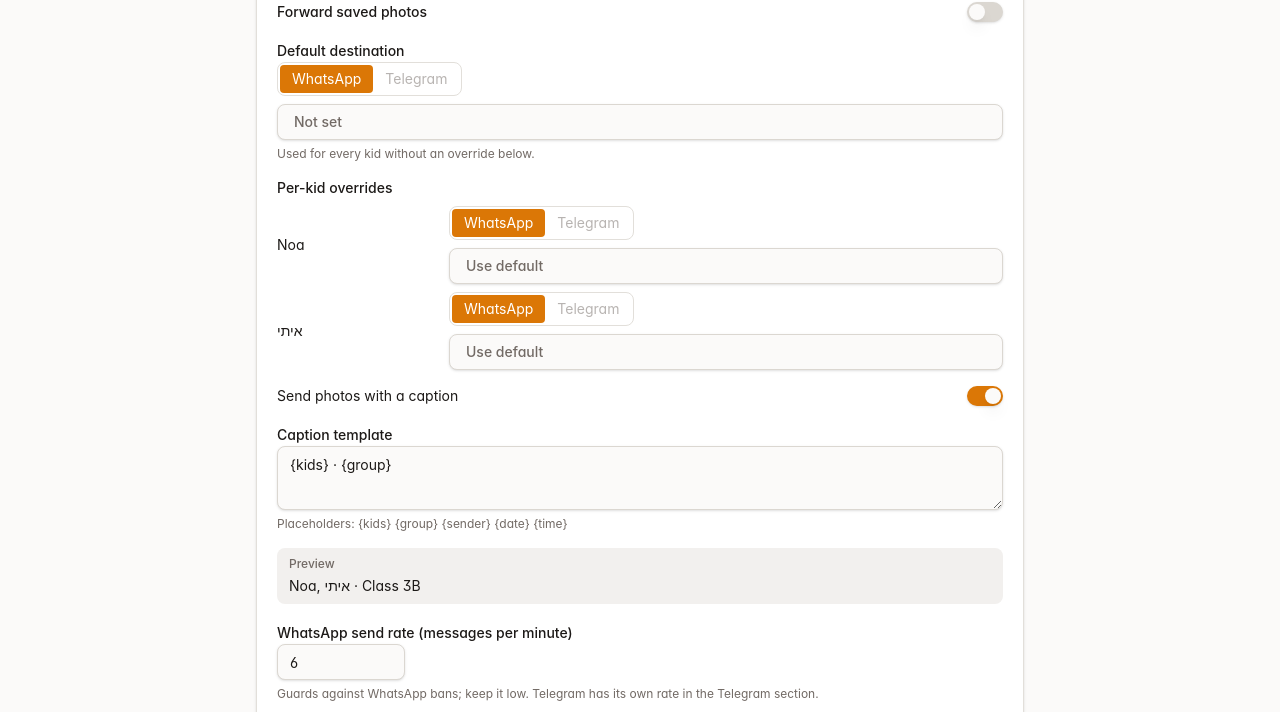
SettingsPage › maps a 422 from the API onto the field
This screenshot has width=1280, height=712.
(page scrolled)
Click the button with aria-label "Destination for איתי: Use default" at (505,352), box top-left (449, 334), bottom-right (1003, 370)
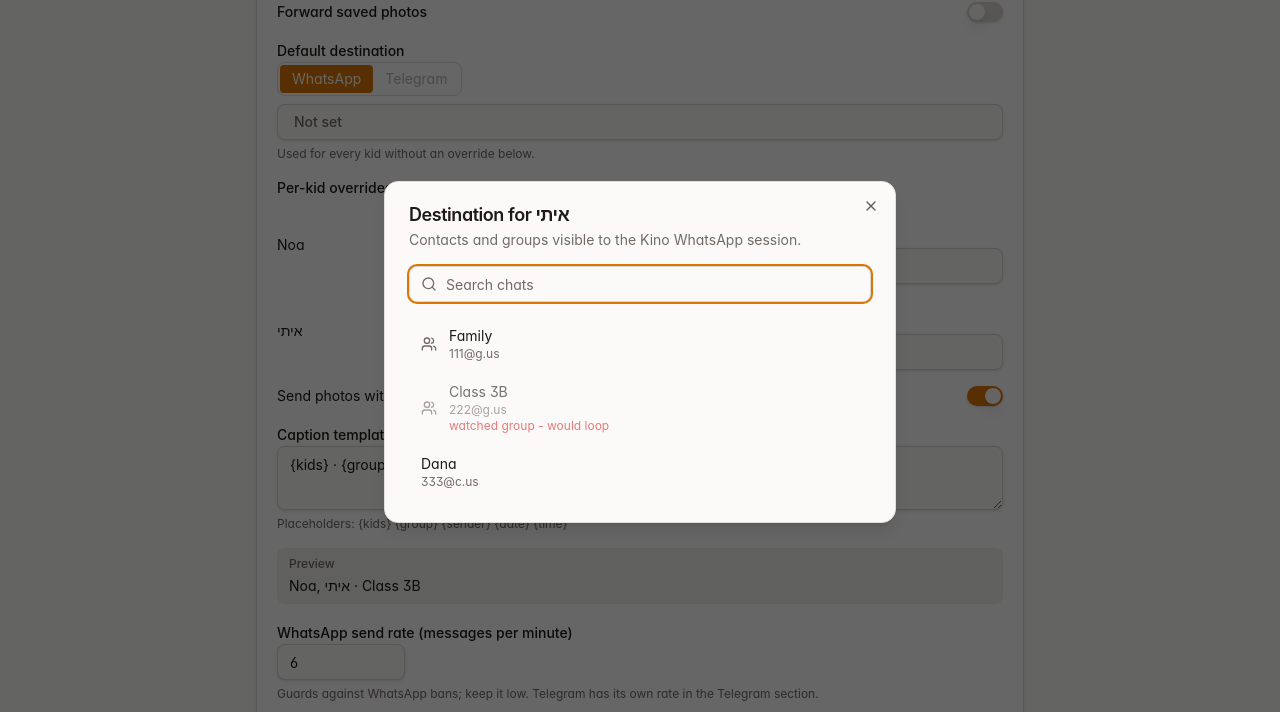
Click the button "Dana 333@c.us" at (439,464), box top-left (409, 446), bottom-right (871, 498)
(page scrolled)
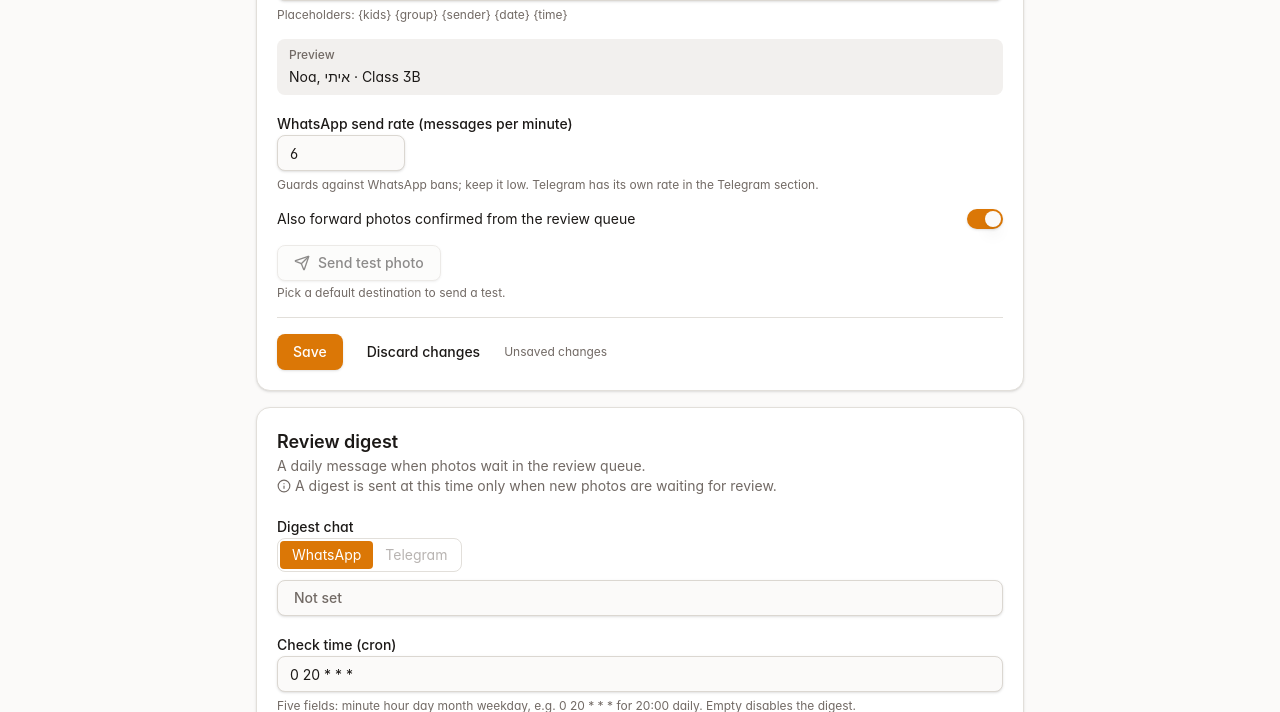
Click the button with aria-label "Save Forwarding" at (310,352), box top-left (277, 334), bottom-right (343, 370)
(page scrolled)
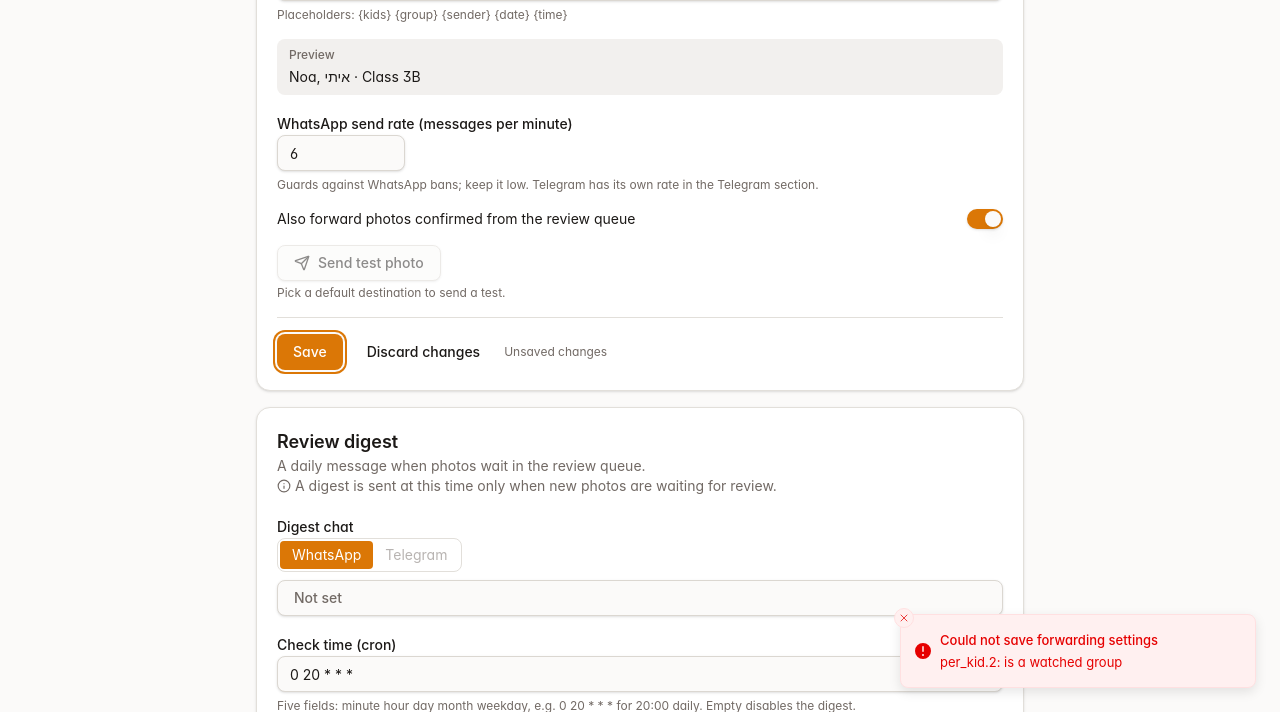
Check: the text "Could not save forwarding settings" is shown, box top-left (940, 631), bottom-right (1158, 651)
